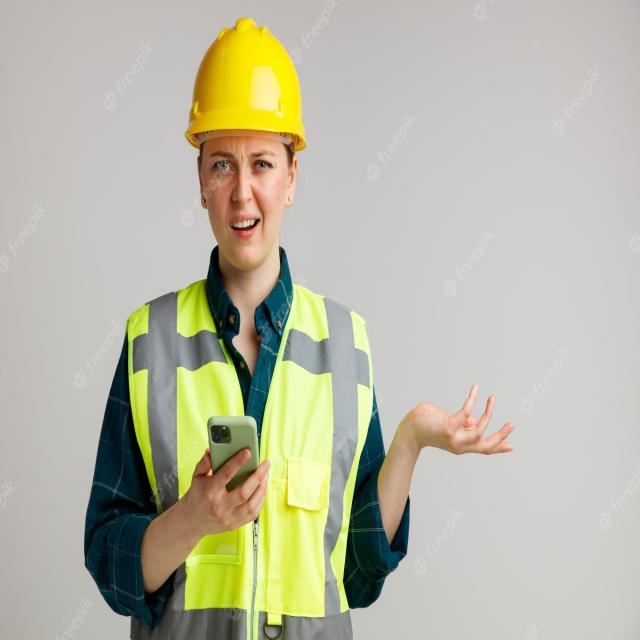helmet: (181, 18, 305, 166)
no-goggles: (194, 133, 293, 196)
vest: (121, 281, 380, 640)
